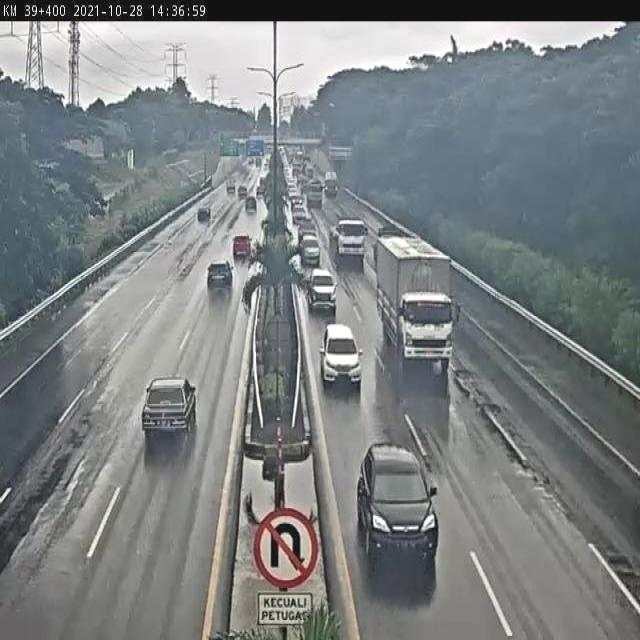Car: (354, 440, 438, 566), (140, 377, 197, 441), (318, 322, 364, 393), (308, 270, 337, 319), (298, 232, 323, 271), (206, 259, 237, 290), (232, 233, 253, 262), (196, 205, 212, 225)
Truck: (375, 235, 462, 368), (328, 217, 368, 261)
